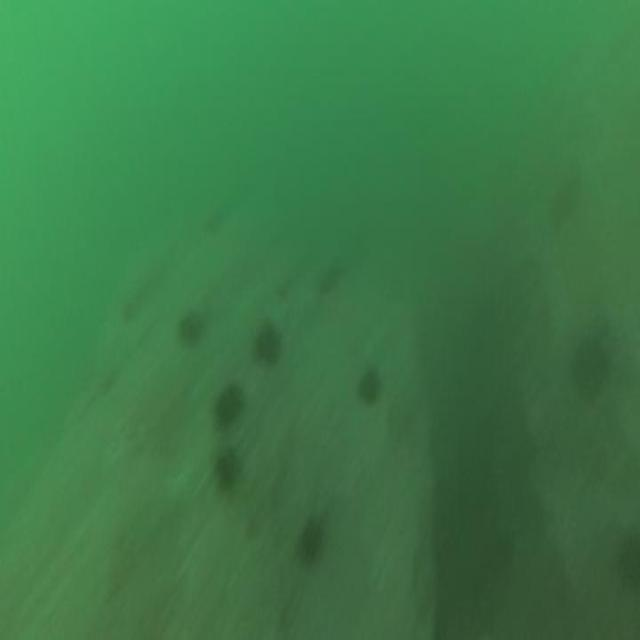echinus: (568, 330, 612, 405), (212, 442, 246, 500), (212, 376, 246, 433), (250, 314, 284, 370), (615, 526, 640, 596), (294, 517, 324, 572), (355, 363, 384, 411), (175, 305, 205, 351), (314, 256, 346, 299), (200, 198, 228, 242)
